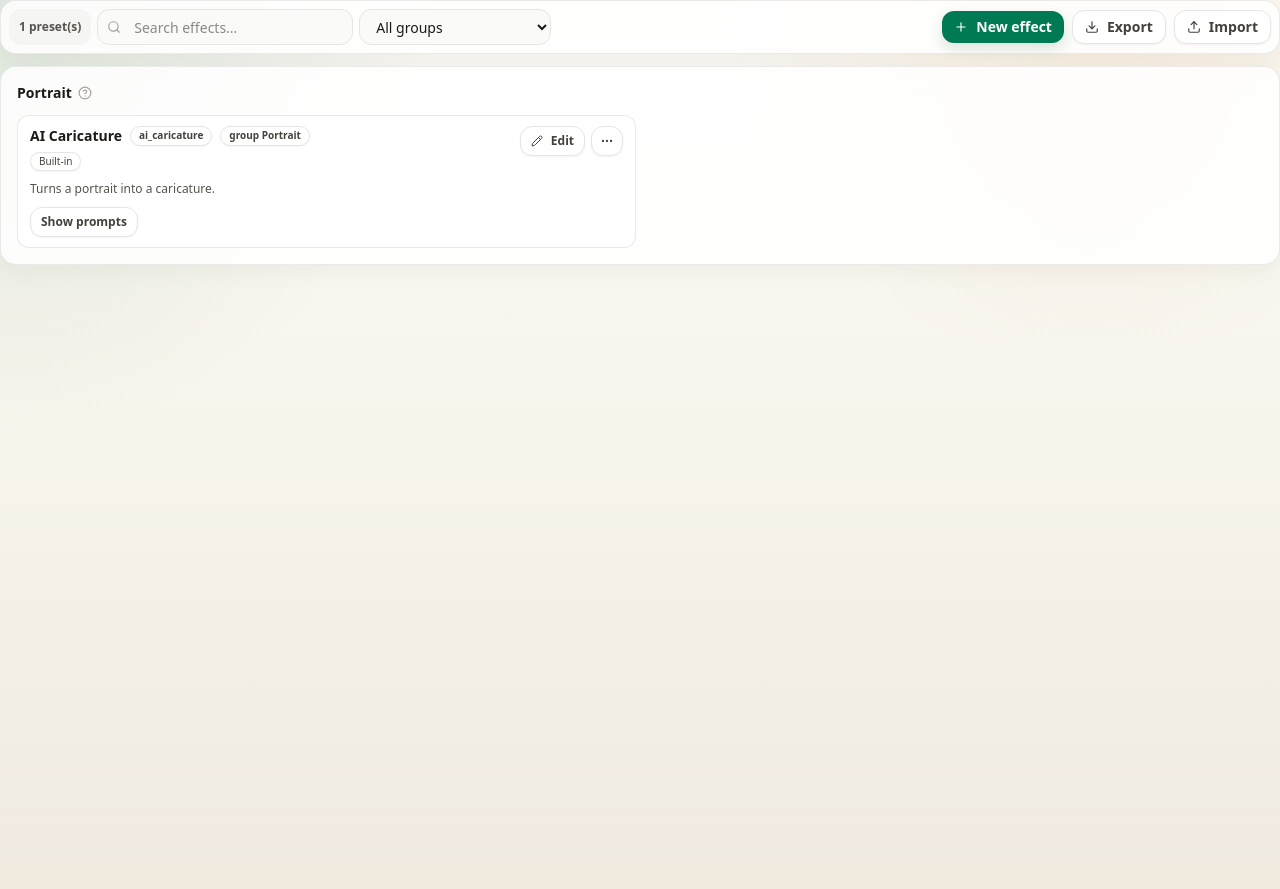
Scenario: Presets pages › uses a two-column list and scrolls to the AI effect edit form
Expected: the text "AI Caricature" is shown, [30,126,122,146]
Click the button with aria-label "Edit AI Caricature".
click(552, 141)  # box [520,126,585,156]
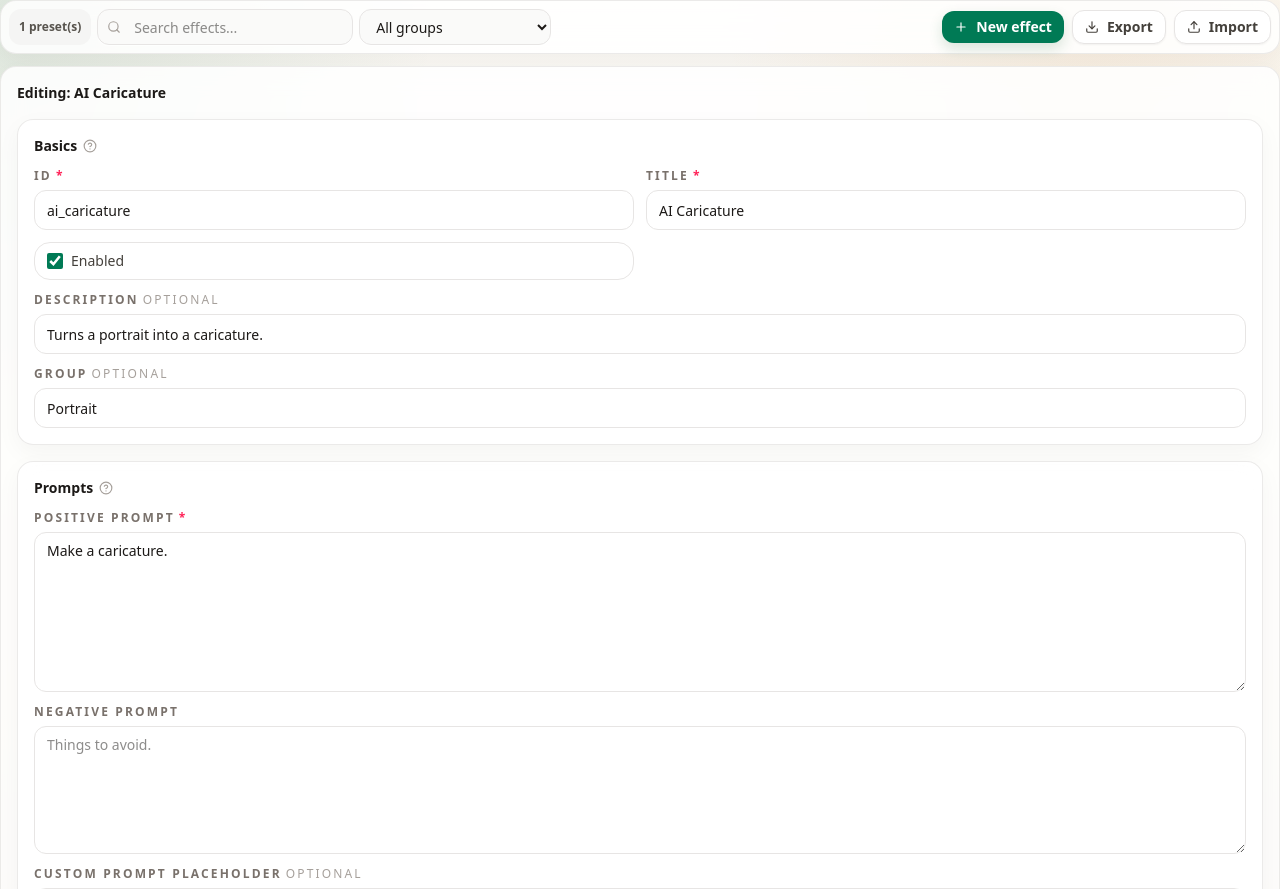
Expected: the text "Editing: AI Caricature" is shown, [17,83,166,103]
